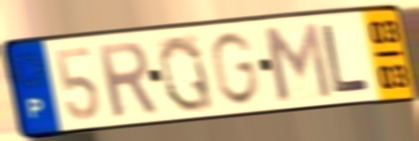5: (52, 43, 102, 122)
G: (208, 29, 262, 108)
L: (318, 22, 373, 97)
M: (259, 20, 336, 104)
Q: (156, 32, 217, 115)
R: (93, 38, 161, 120)
